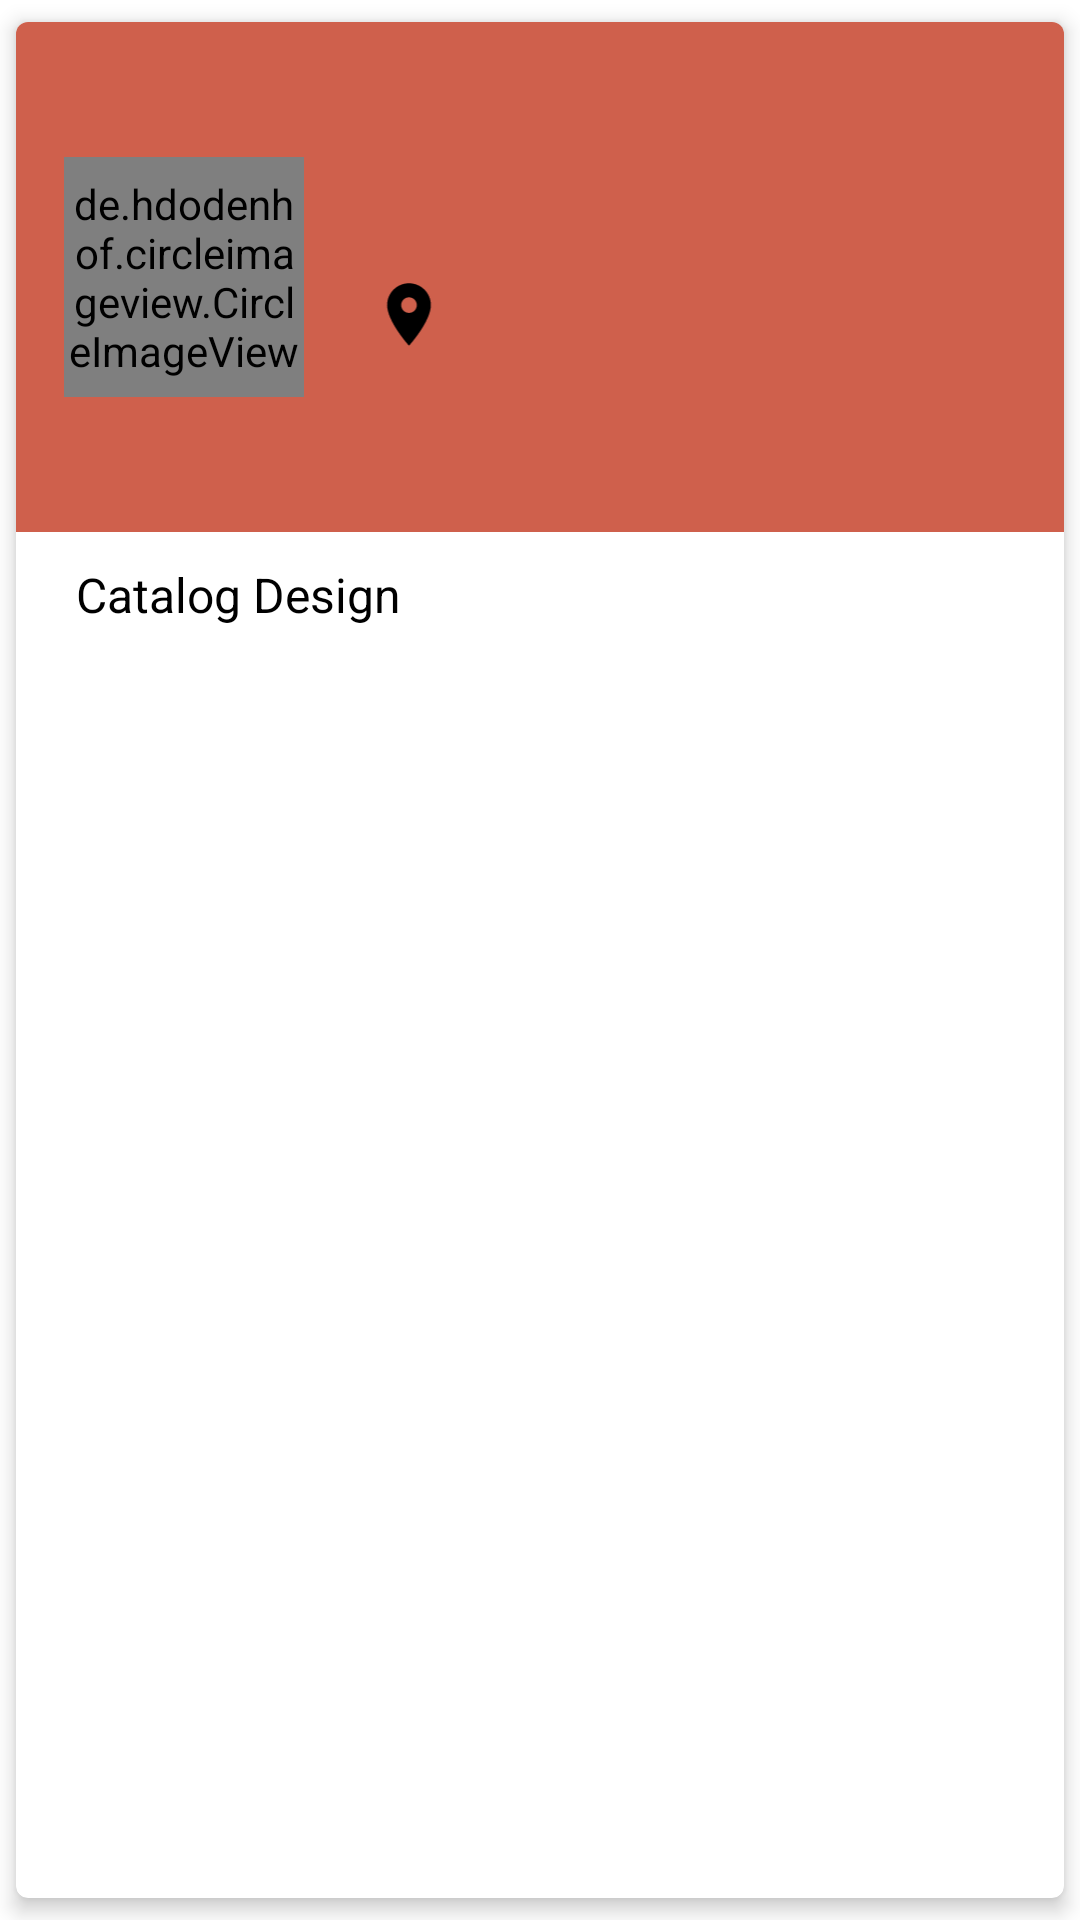

Screen size 1080 × 1920. Icon name, then its box in pixels as rect(x1, y1, x2, y2):
location: rect(386, 283, 432, 346)
